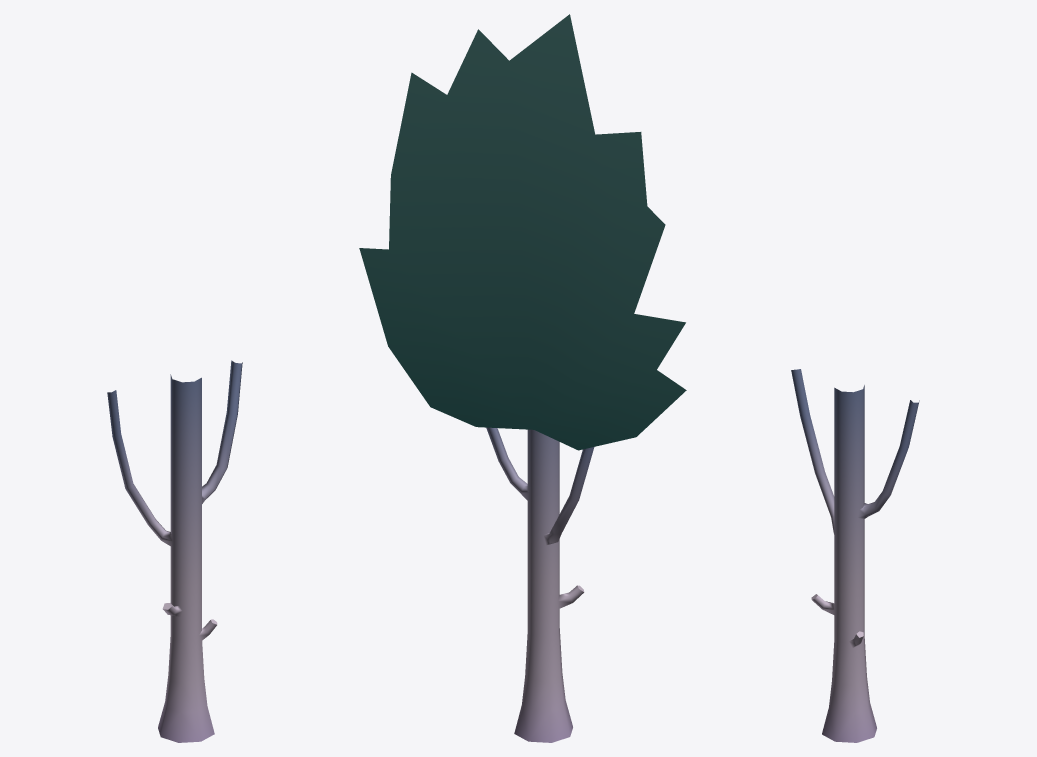
File: prop_tall-tree_03.glb
3 views of the same model, side by side, from view 1: azimuth 30°, elevation 25°; view 2: azimuth 150°, elevation 25°; view 3: azimuth 330°, elevation 25° (orthographic). The views are drawn at different scales.
Visible parts, largest first — view 1: prop_tall-tree_03; view 2: prop_tall-tree_03; view 3: prop_tall-tree_03.
Boxes of the visible parts, bbox=[...] form: prop_tall-tree_03: bbox=[107, 360, 242, 742]; prop_tall-tree_03: bbox=[359, 14, 686, 742]; prop_tall-tree_03: bbox=[791, 369, 919, 742].
Bounding box in the file's own units: 28.2 × 60.88 × 4.89.
